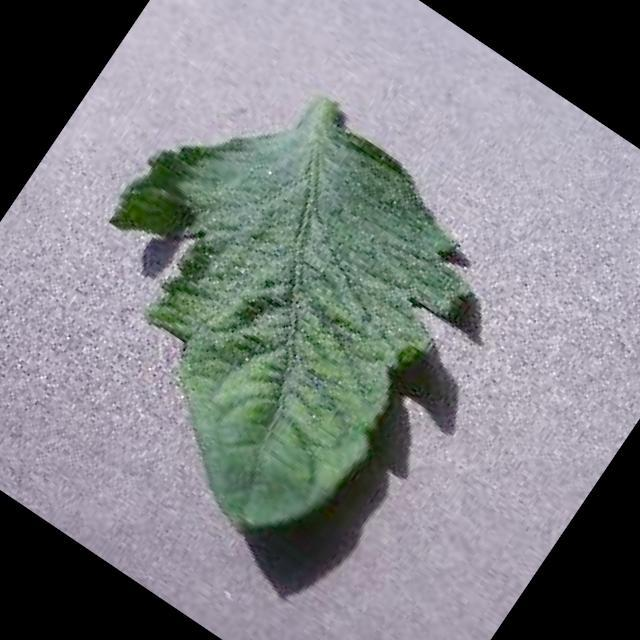Tomato mosaic virus leaf: (0, 40, 518, 571)
